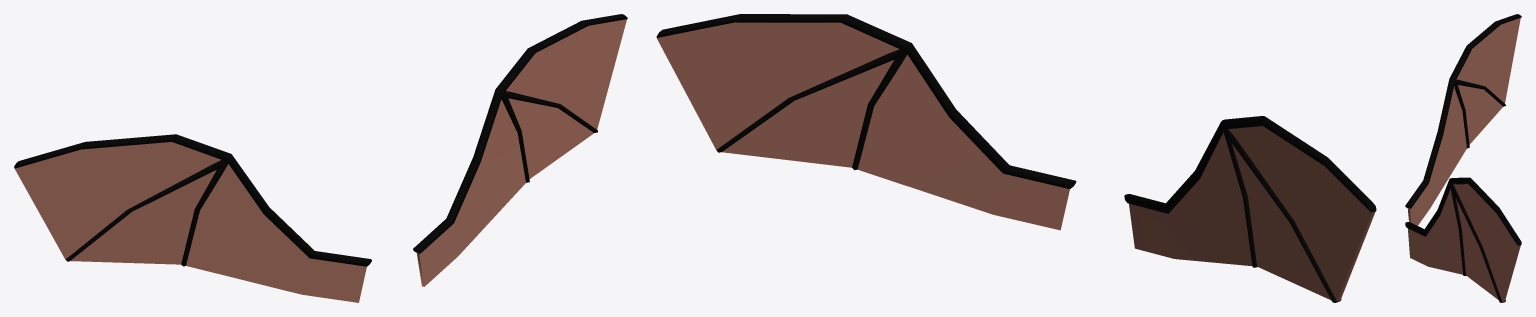
File: Dragon_wings.fbx
3 views of the same model, side by side, from view 1: azimuth 30°, elevation 25°; view 2: azimuth 150°, elevation 25°; view 3: azimuth 270°, elevation 25° (orthographic). The views are drawn at different scales.
Visible parts, largest first — view 1: dragon_wings; view 2: dragon_wings; view 3: dragon_wings.
Boxes of the visible parts, x1,y1,x2,y2 form: dragon_wings: (14,14,627,302); dragon_wings: (656,14,1376,302); dragon_wings: (1405,14,1521,302).
Bounding box in the file's own units: 194 × 52.97 × 41.64.
